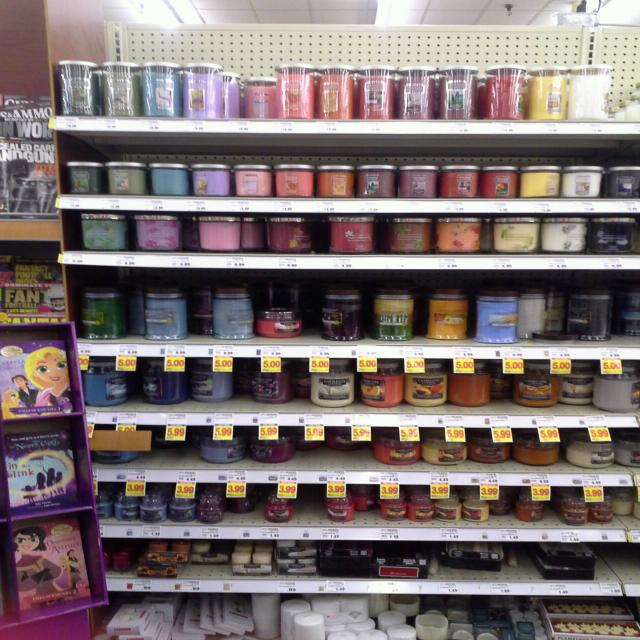unorganised: (320, 285, 368, 345), (566, 288, 616, 342), (426, 287, 472, 345), (212, 284, 255, 343), (435, 545, 506, 580), (83, 359, 132, 409), (485, 64, 527, 122), (138, 359, 186, 408), (570, 65, 612, 120), (594, 362, 640, 412), (264, 213, 317, 254), (192, 213, 244, 253), (360, 361, 405, 407), (191, 358, 234, 405), (511, 433, 564, 470), (516, 287, 550, 344), (451, 364, 495, 407), (202, 427, 244, 464), (321, 429, 371, 459), (243, 73, 276, 118), (148, 161, 190, 194), (520, 164, 562, 196), (561, 369, 594, 408), (189, 546, 229, 576), (354, 483, 378, 526), (228, 484, 254, 523), (490, 496, 513, 523), (613, 495, 634, 522)
